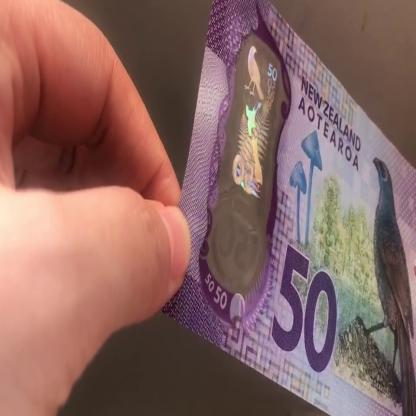50B: (222, 44, 279, 282)
